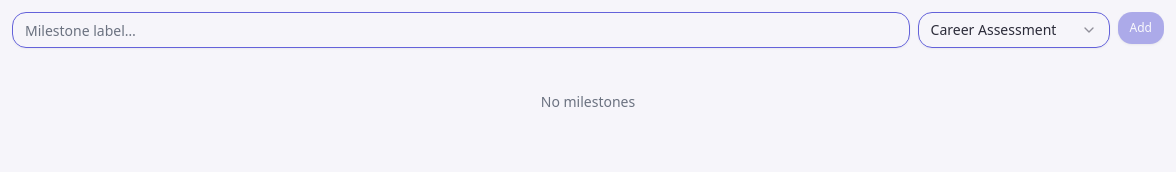
Test: MilestoneList › clears the label input after successful add
Type "Goal" into the field labelled "Milestone label…" at point(461, 30), box [12,12,910,48]
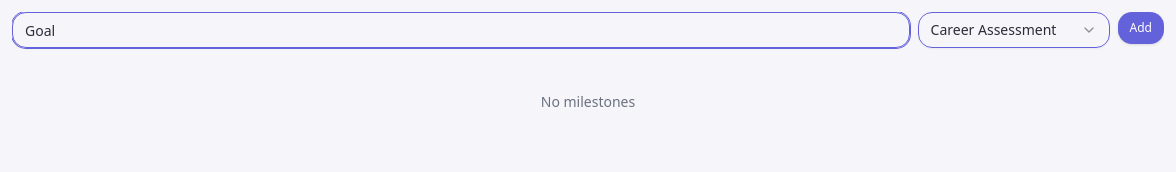
Click the button "Add" at point(1141, 28), box [1118,12,1164,44]
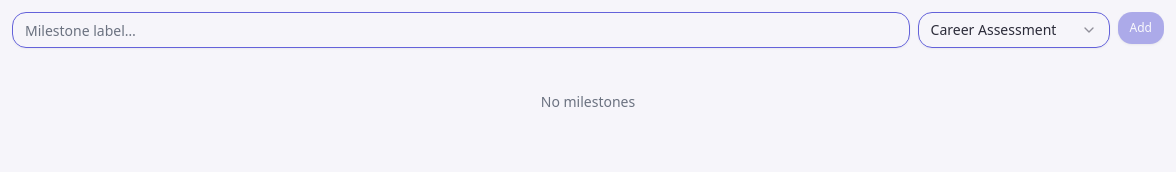
Now the field labelled "Milestone label…" is empty, box [12,12,910,48]
